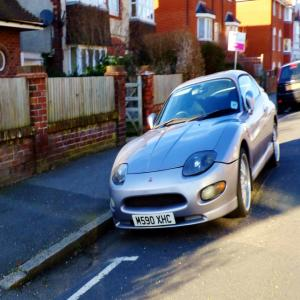Vehicle-registration-plate: (133, 213, 177, 228), (286, 83, 300, 91)
